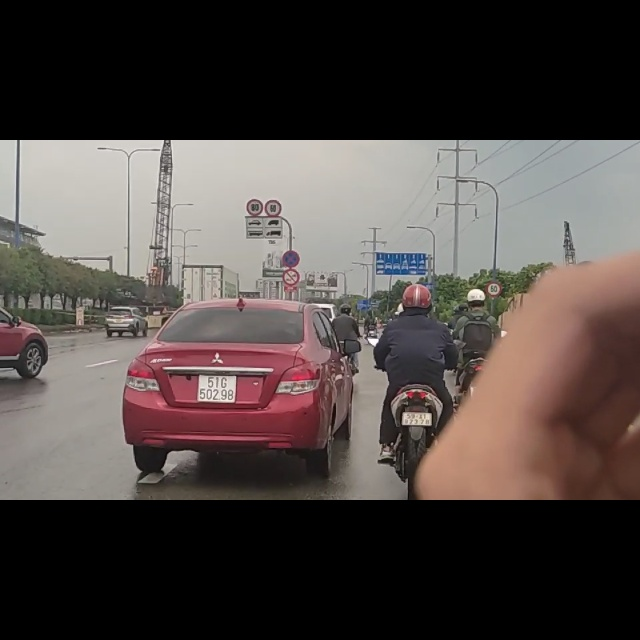bien_cam: (281, 196, 300, 226)
